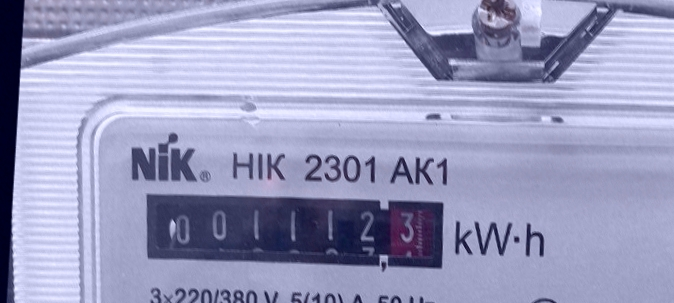0: (204, 205, 229, 244), (168, 210, 192, 246)
1: (244, 204, 264, 243), (282, 205, 298, 244), (320, 206, 336, 243)
2: (353, 208, 377, 245)
3: (394, 209, 414, 245)
screen: (133, 181, 450, 280)
